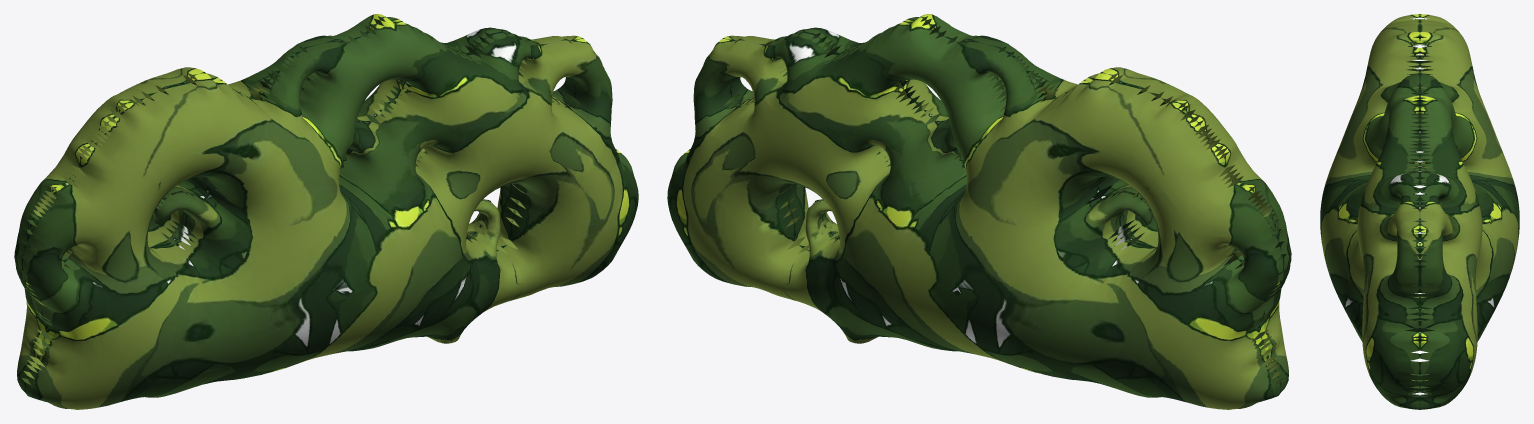
File: thicket_vine.glb
3 renders of one model, left to right at view 1: azimuth 30°, elevation 25°; view 2: azimuth 150°, elevation 25°; view 3: azimuth 270°, elevation 25°, orthographic. The views are drawn at different scales.
Parts seen in each view (by area): view 1: thicket_vine; view 2: thicket_vine; view 3: thicket_vine.
Boxes of the visible parts, x1=… form: thicket_vine: x1=14, y1=14, x2=638, y2=409; thicket_vine: x1=667, y1=14, x2=1291, y2=409; thicket_vine: x1=1320, y1=14, x2=1519, y2=409.
Size of the model in its own units: 0.989 by 0.4896 by 0.3565.
1 material, 1 textured.
